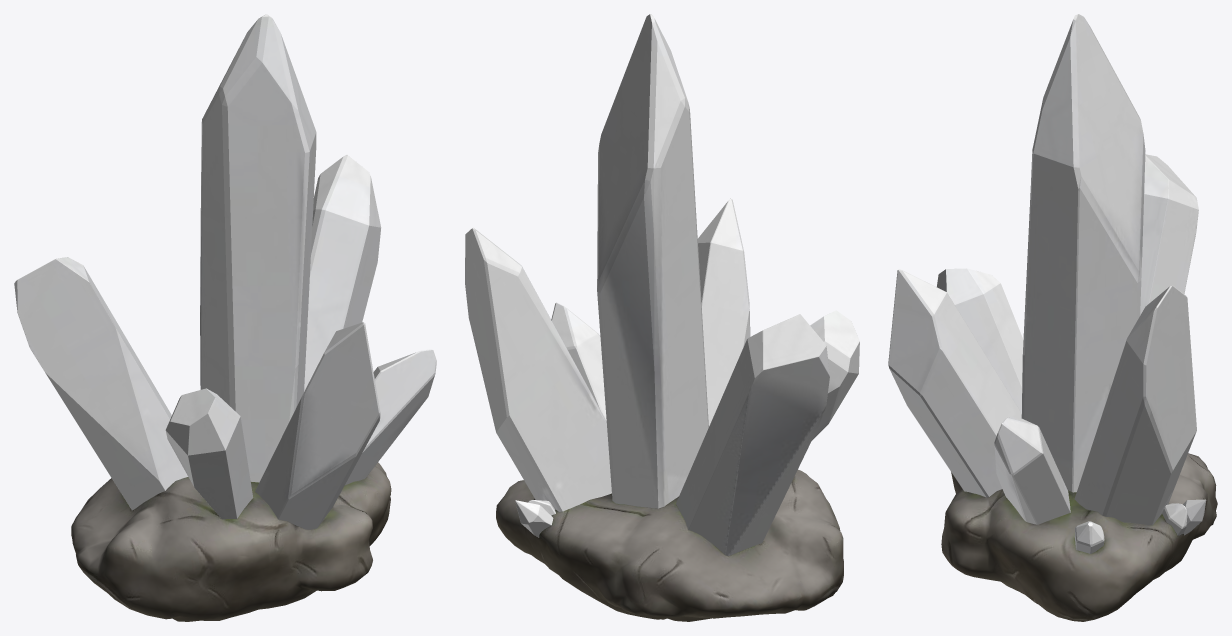
Rendered from crystal.glb.
The picture shows the model from 3 angles, left to right: view 1: azimuth 30°, elevation 25°; view 2: azimuth 150°, elevation 25°; view 3: azimuth 270°, elevation 25°; orthographic projection. The views are drawn at different scales.
Visible parts, largest first — view 1: glow_crystal, rock; view 2: glow_crystal, rock; view 3: glow_crystal, rock.
Part boxes in pixels (bbox=[...]): glow_crystal: bbox=[14, 14, 436, 529]; rock: bbox=[71, 462, 391, 621]; glow_crystal: bbox=[465, 14, 859, 555]; rock: bbox=[496, 469, 843, 621]; glow_crystal: bbox=[888, 14, 1206, 553]; rock: bbox=[941, 453, 1217, 621].
Bounding box in the file's own units: 0.5302 × 0.796 × 0.4148.
Materials: 2 (2 with a texture image).
